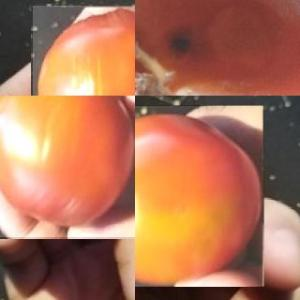tomato: (136, 106, 264, 286)
